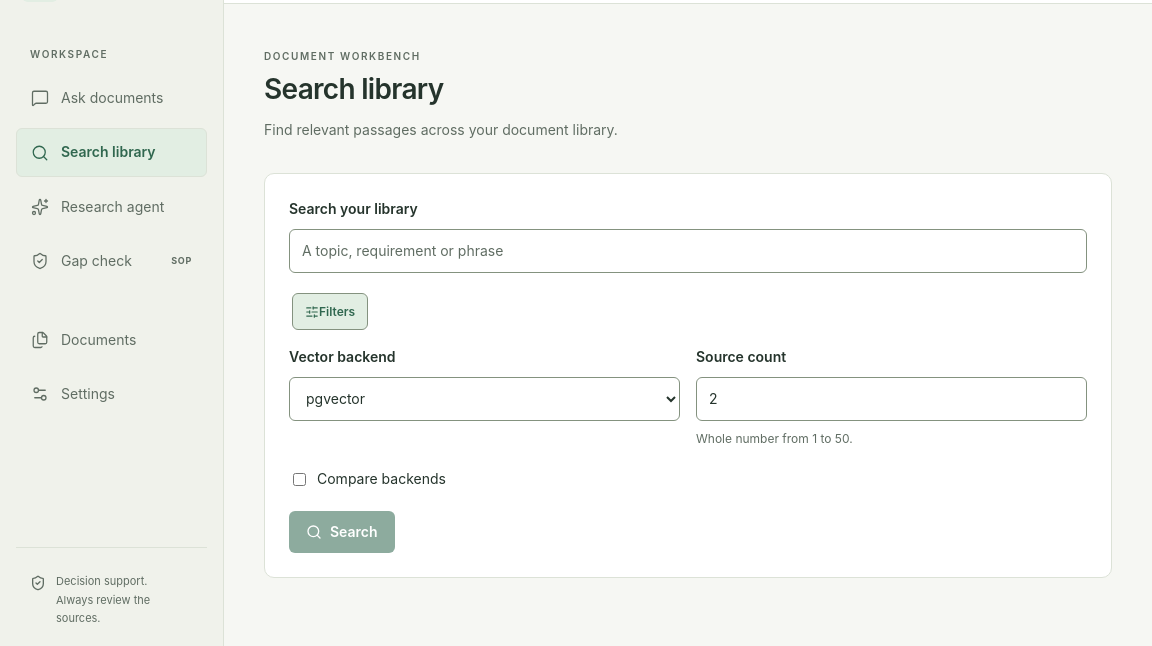
foundation integration › Stop waiting aborts locally and shows no error or late result
This screenshot has width=1152, height=646.
Type "records" into the field labelled "Search your library" at [688, 251], box [289, 229, 1087, 273]
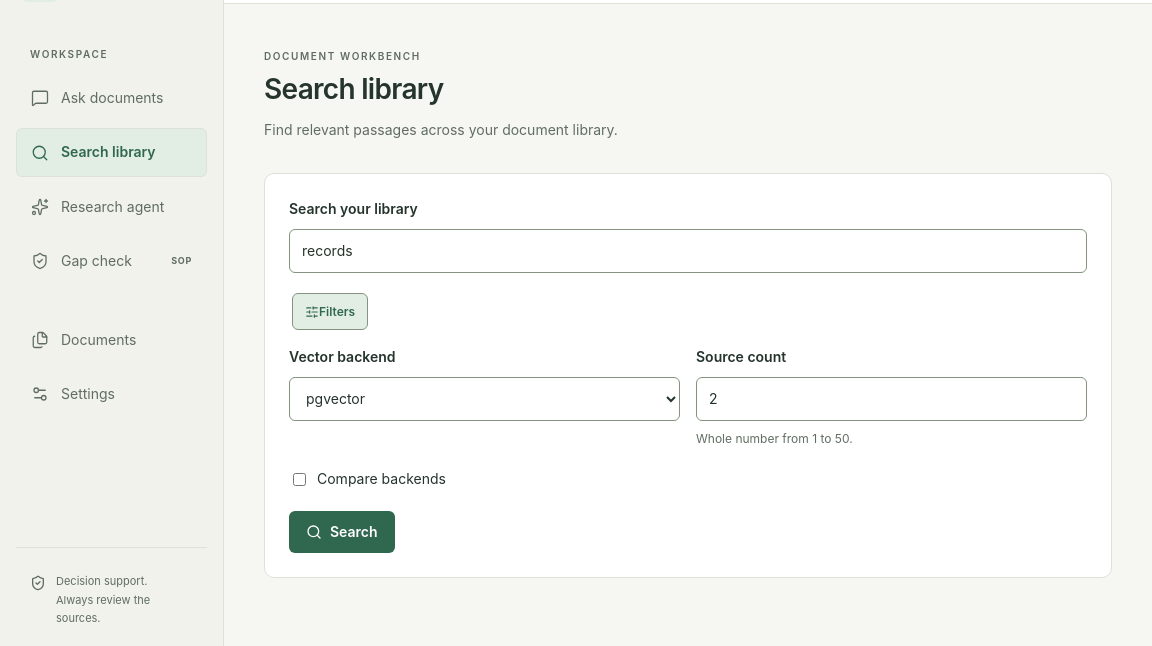
Submit the form labelled "Search your library", box [289, 198, 1087, 553]
(page scrolled)
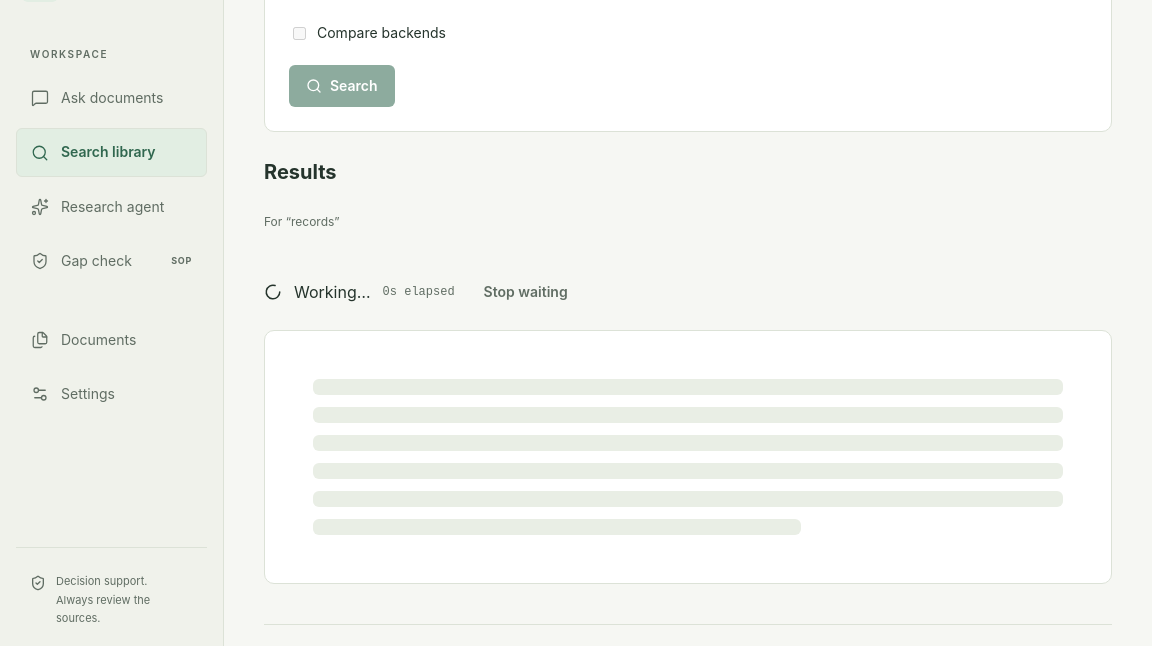
Click the button "Stop waiting" at [526, 292], box [467, 271, 585, 314]
(page scrolled)
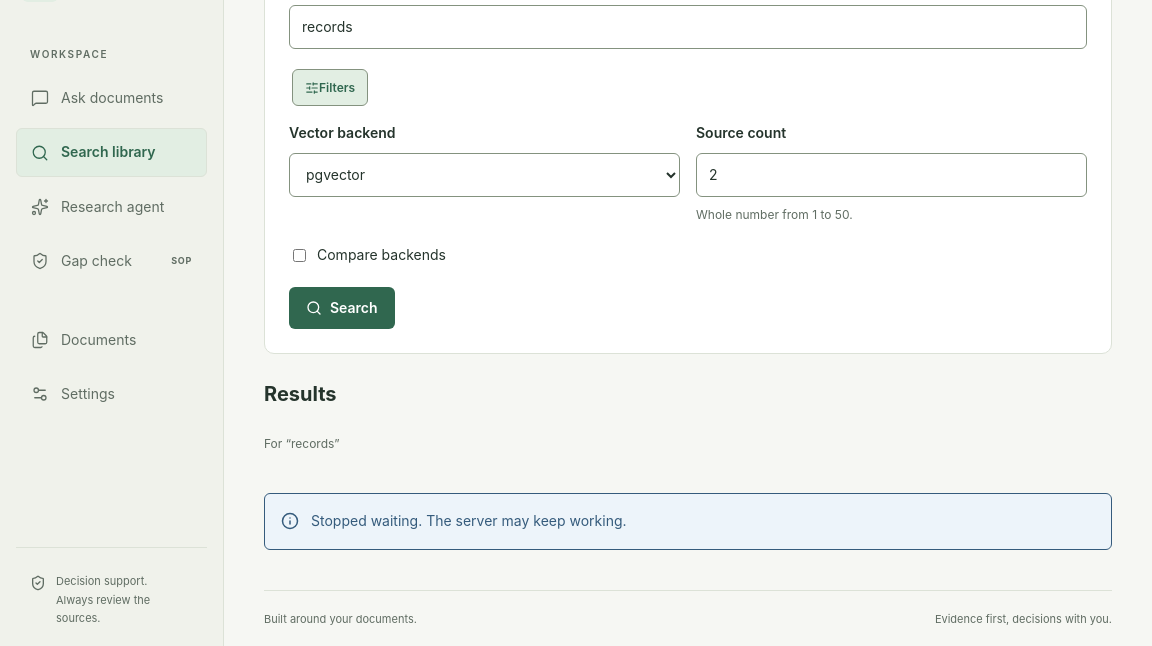
Expected: the text "Stopped waiting. The server may keep working." is shown, [311, 512, 626, 529]
Expected: the message "Working… 0s elapsed Stop waiting" is gone
